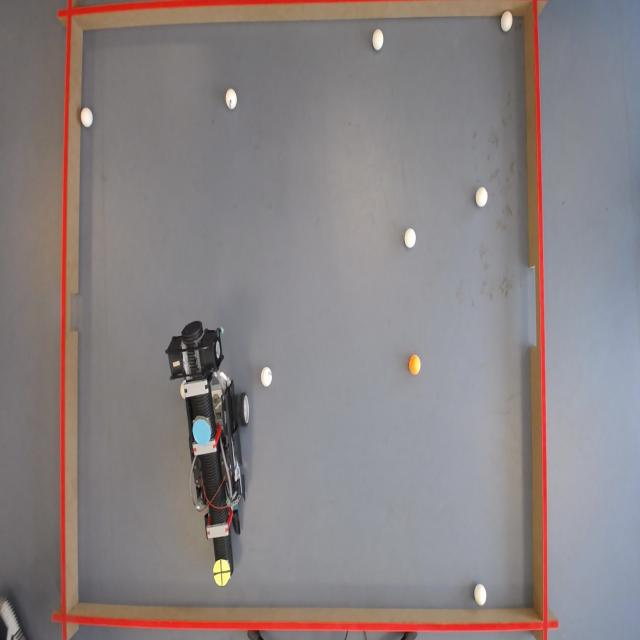orange: (408, 354, 422, 374)
robot: (169, 324, 256, 588)
robot-front: (212, 558, 232, 588)
robot-rear: (192, 415, 212, 447)
white: (475, 584, 489, 608), (372, 29, 386, 51), (500, 10, 513, 32), (405, 229, 418, 250), (80, 106, 93, 127), (224, 89, 237, 110), (476, 188, 489, 208), (262, 368, 274, 388)
